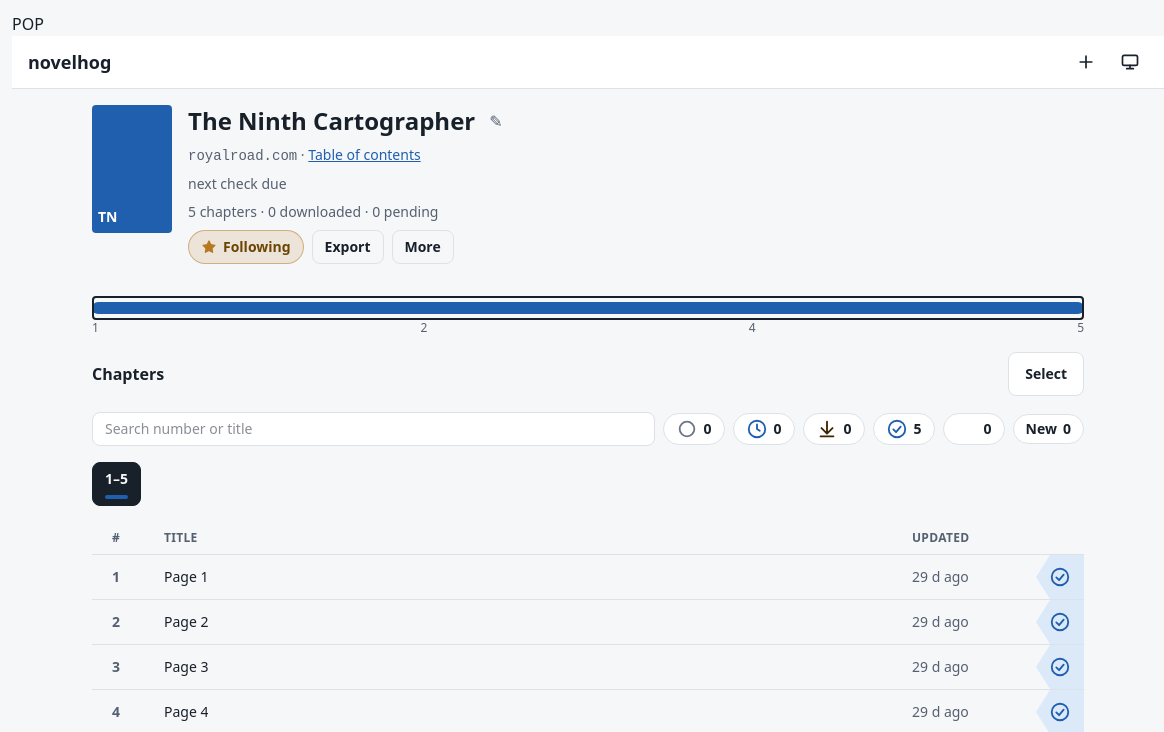
Test case: Novel page (rendered through App at /novels/:id) › searches by number or title
Type "storm" into the search field at (373, 429), box top-left (92, 412), bottom-right (654, 446)
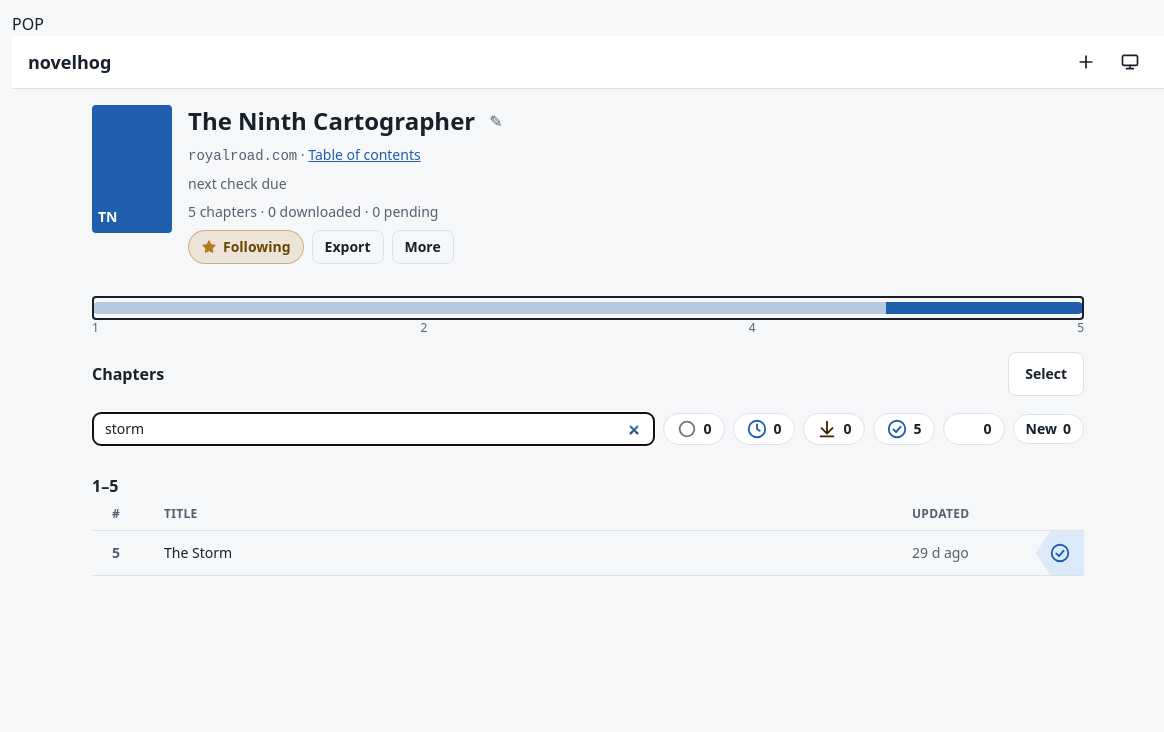
Expected: the number of list items is 1, top-left (92, 531), bottom-right (1084, 576)
